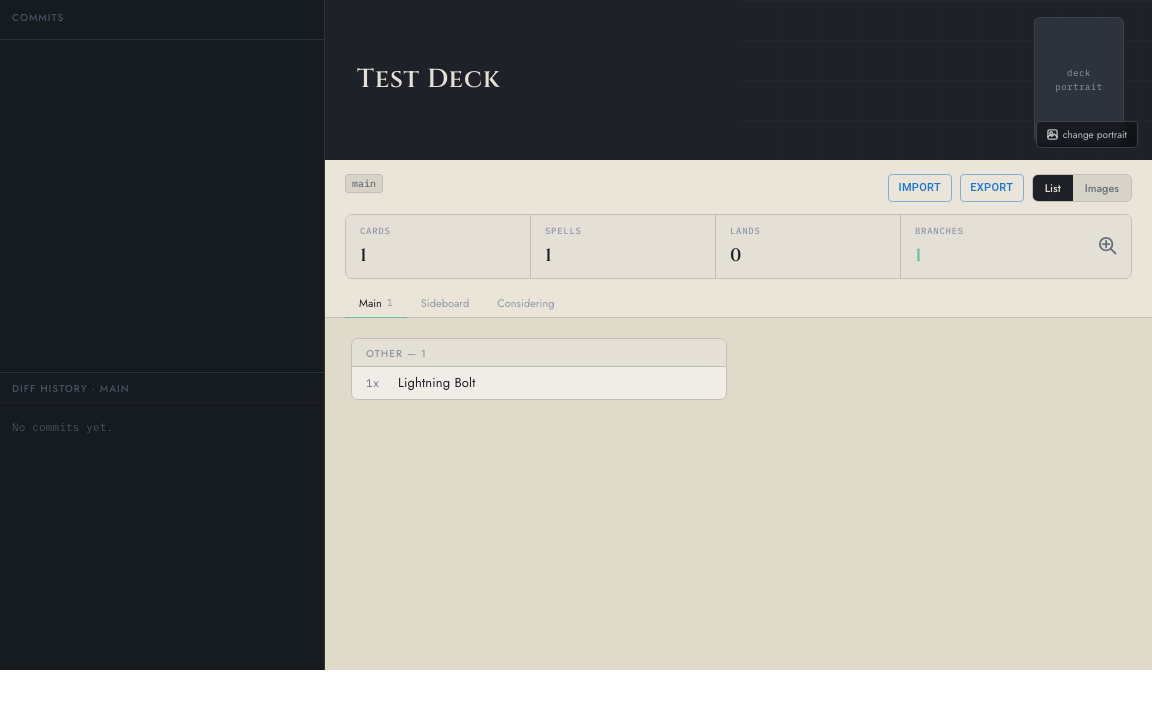
Test case: Decklist — art selection › "Select printing" menu item is present in the card menu for cards with an oracleId
The image size is (1152, 720).
Expected: the text "Lightning Bolt" is shown, [398, 373, 476, 392]
Hover over the element showing "1x Lightning Bolt": {"x": 539, "y": 383} [352, 367, 726, 398]
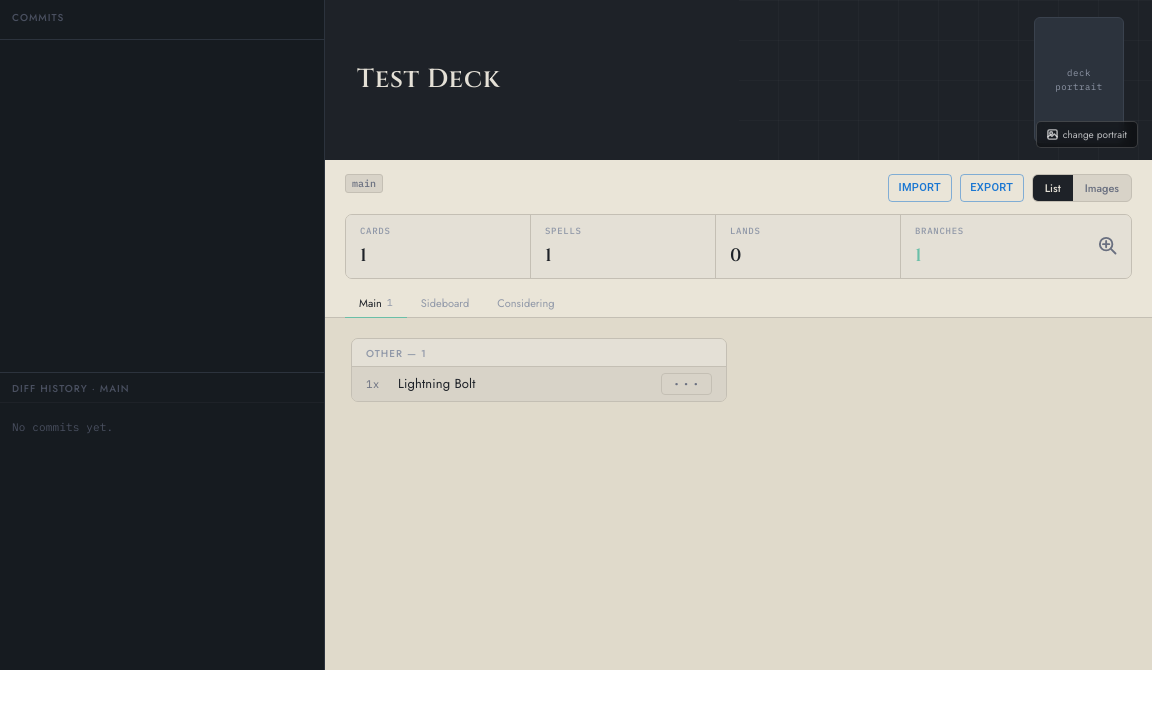
Click the button "···": {"x": 686, "y": 384} [661, 373, 712, 395]
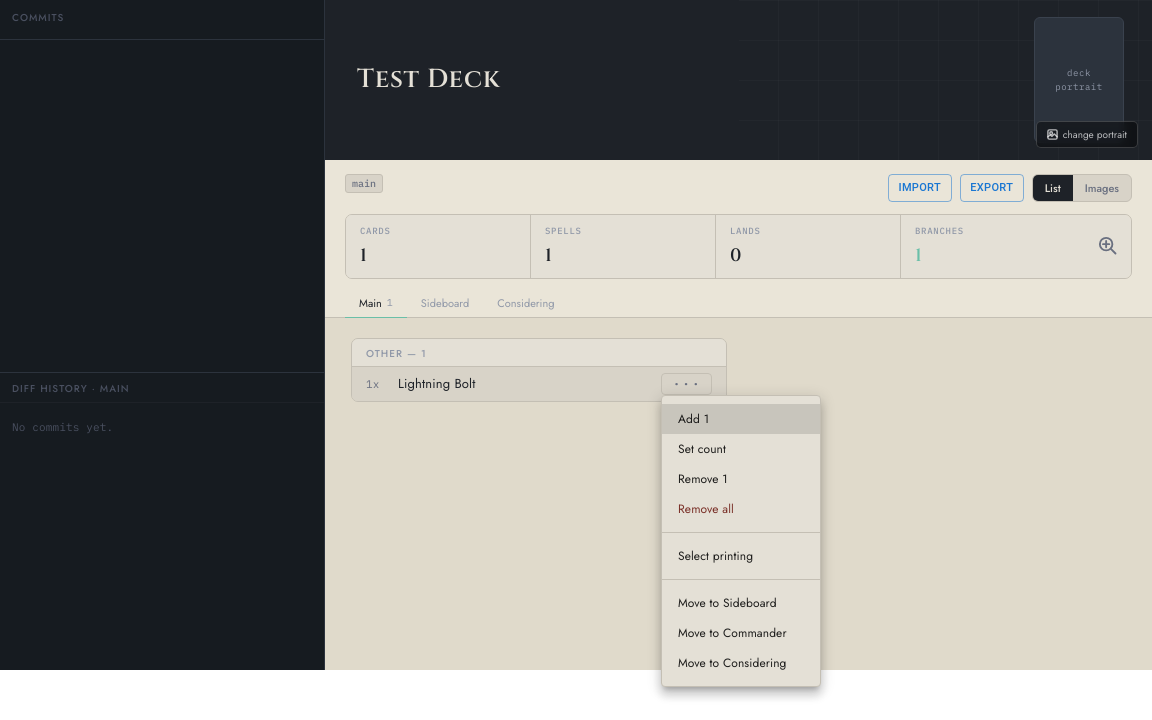
Now the menu item "Select printing" is shown, box [678, 547, 753, 565]
